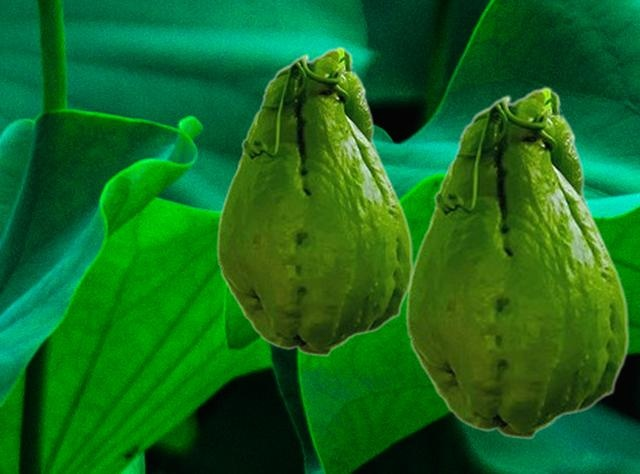sayote: (405, 86, 629, 439), (216, 46, 413, 356)
